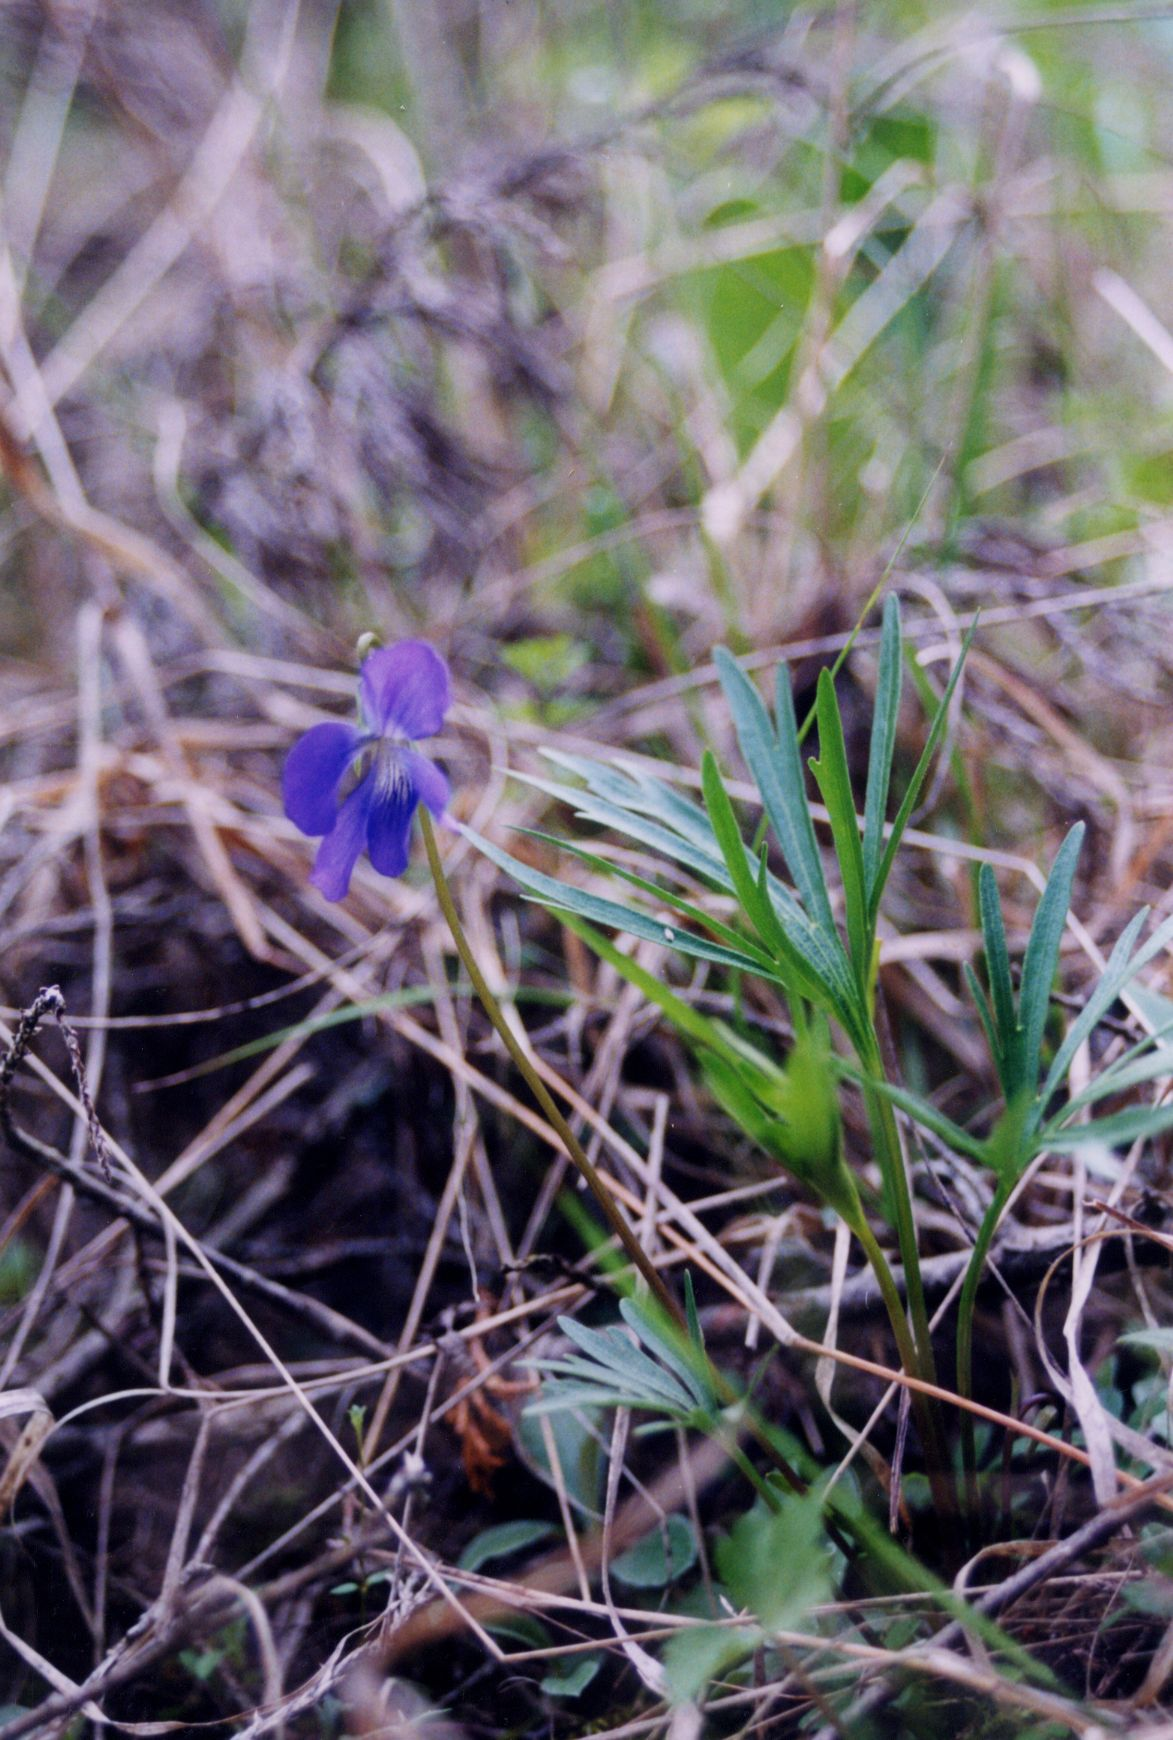violet: (223, 627, 484, 898)
